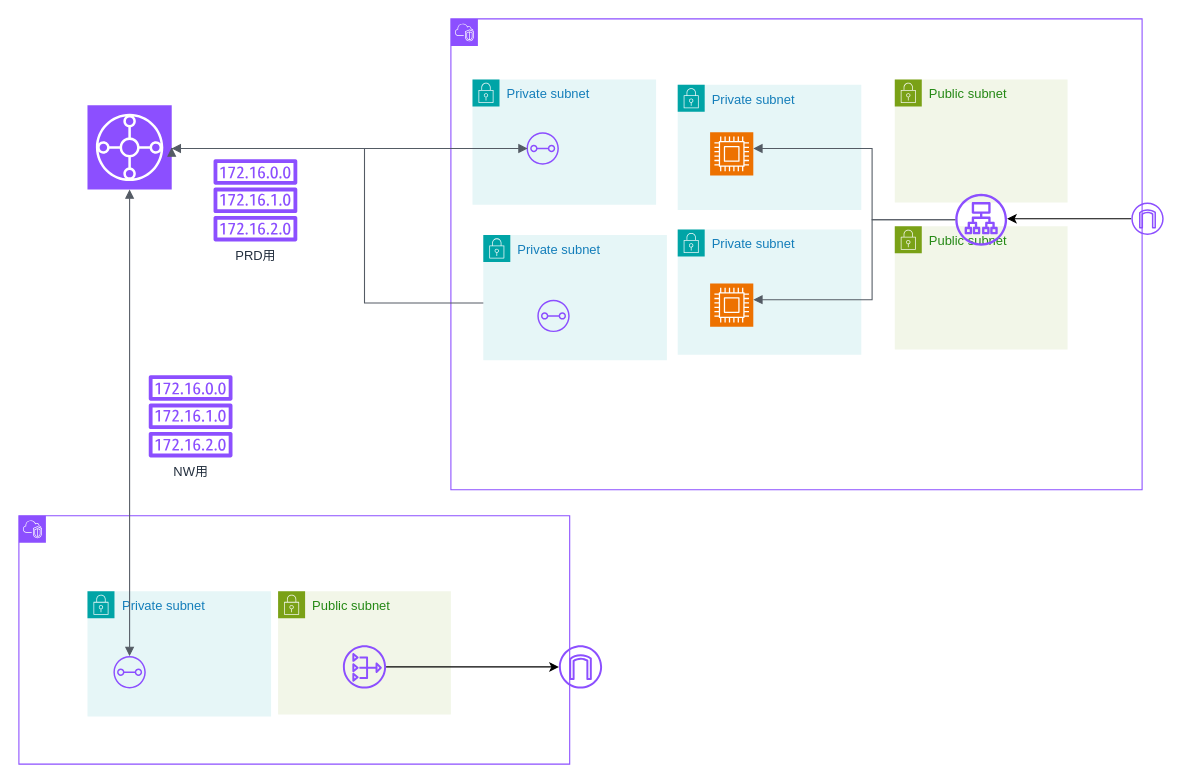
This 1183x783 diagram has some shape labels left out. The shapes that lost their labels are listed below. From the top down, each one's box as (x1, y1, x2, y2) in pixels, then its label:
(450, 18, 1142, 490): PRD VPC
(18, 515, 570, 764): NW VPC
